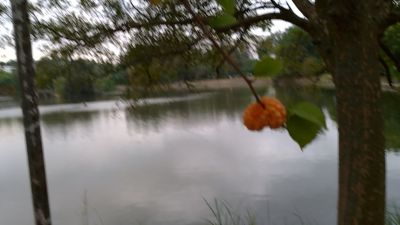eggs: (242, 96, 289, 133)
